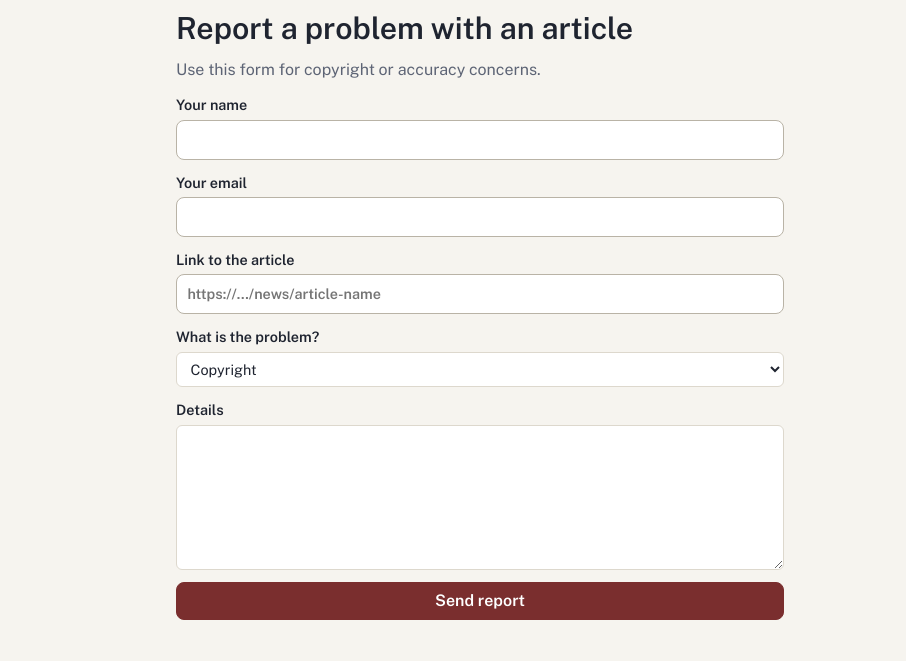
Test case: Report a problem › sends the report and thanks the sender
This screenshot has width=906, height=661.
In the field labelled "Your name": (480, 140) x1=176 y1=120 x2=784 y2=160, type "Pat"
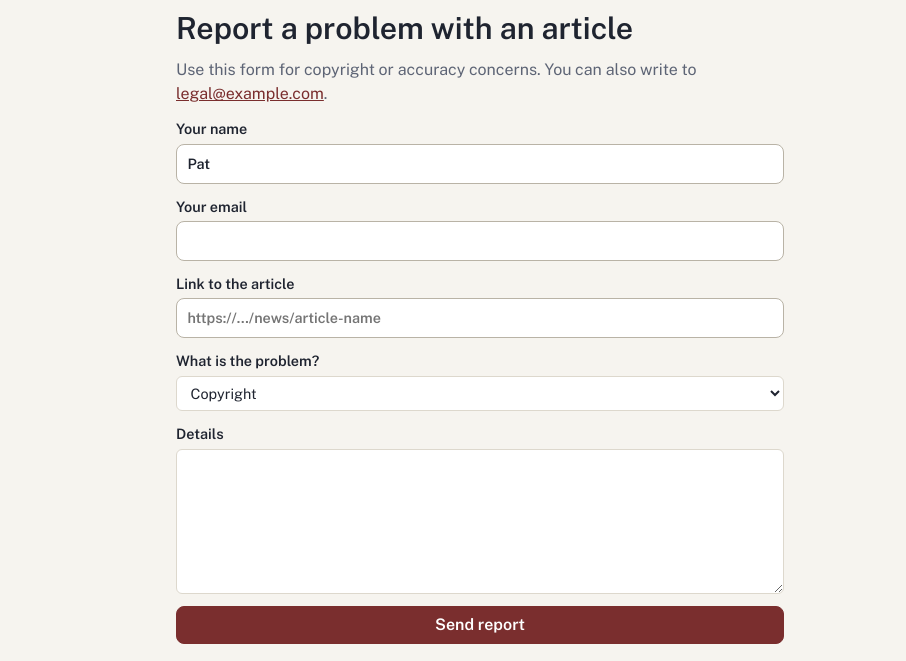
In the field labelled "Your email": (480, 241) x1=176 y1=221 x2=784 y2=261, type "pat@example.com"
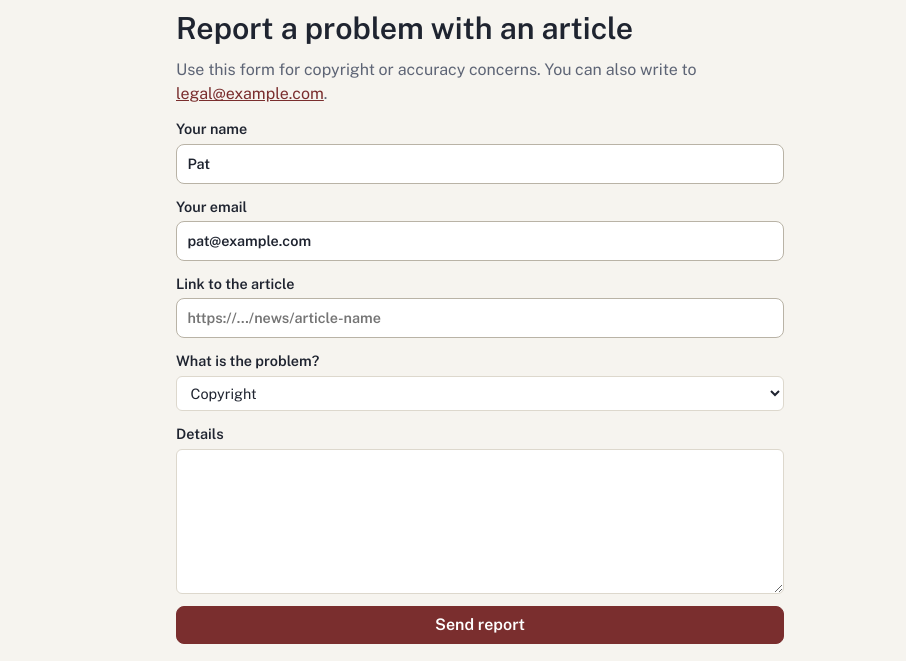
In the field labelled "Link to the article": (480, 318) x1=176 y1=298 x2=784 y2=338, type "https://site.example/news/bridge-vote"
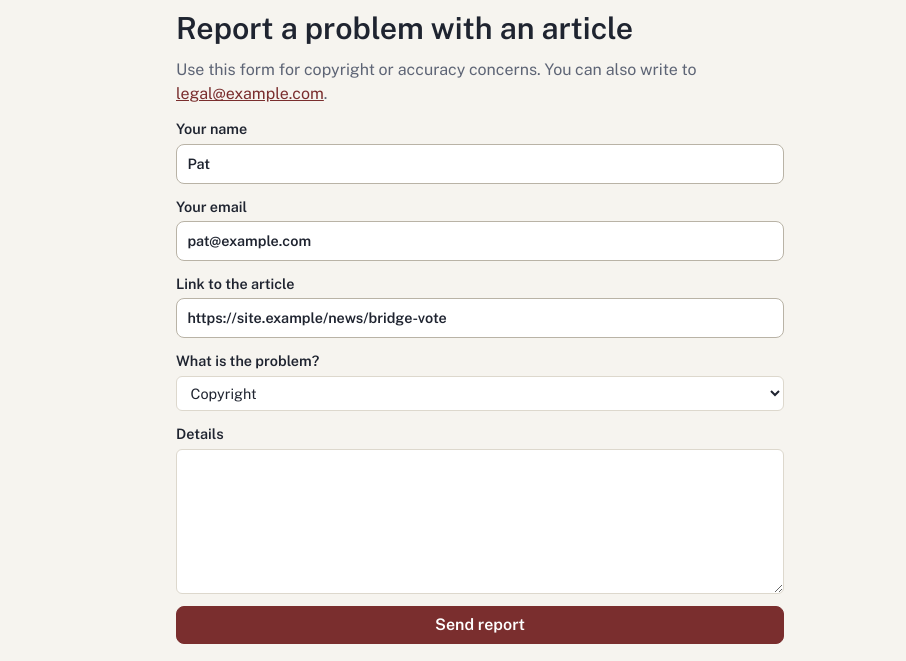
In the text box labelled "Details": (480, 522) x1=176 y1=449 x2=784 y2=594, type "This copies my article without permission."
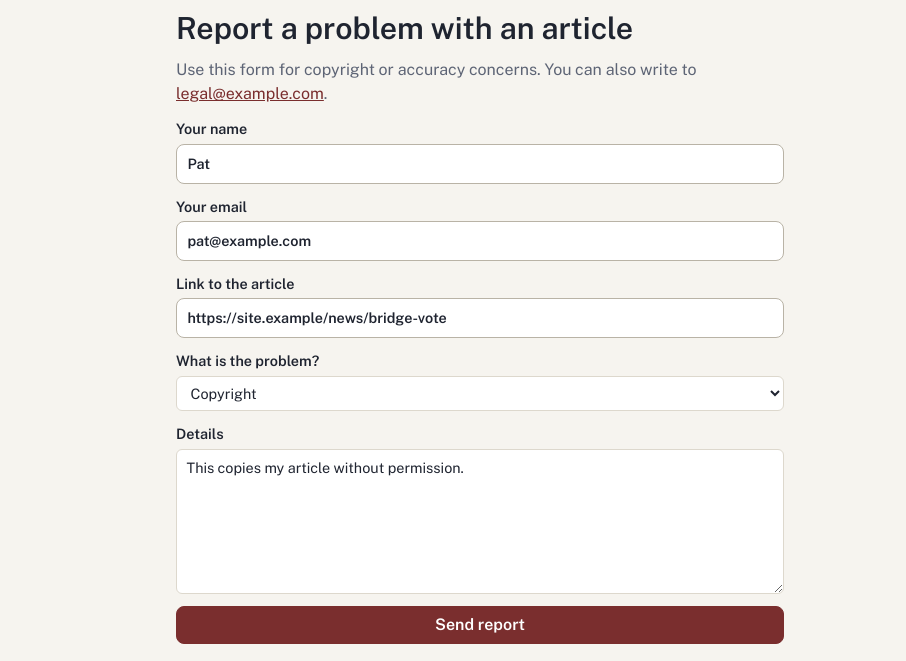
Click the button "Send report": (480, 625) x1=176 y1=606 x2=784 y2=644
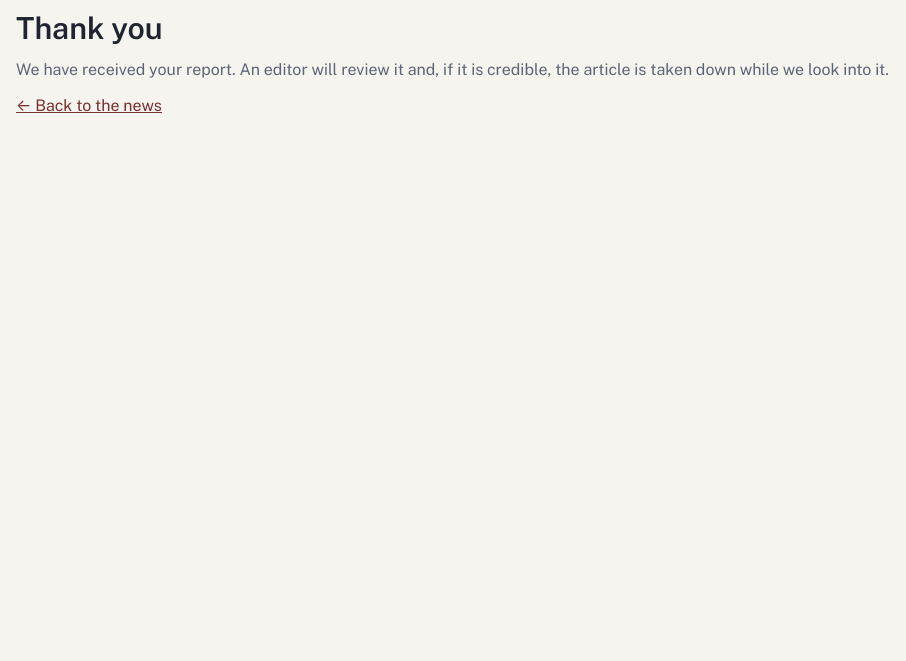
expect the text "We have received your report" is shown: met, box x1=16 y1=60 x2=889 y2=80
